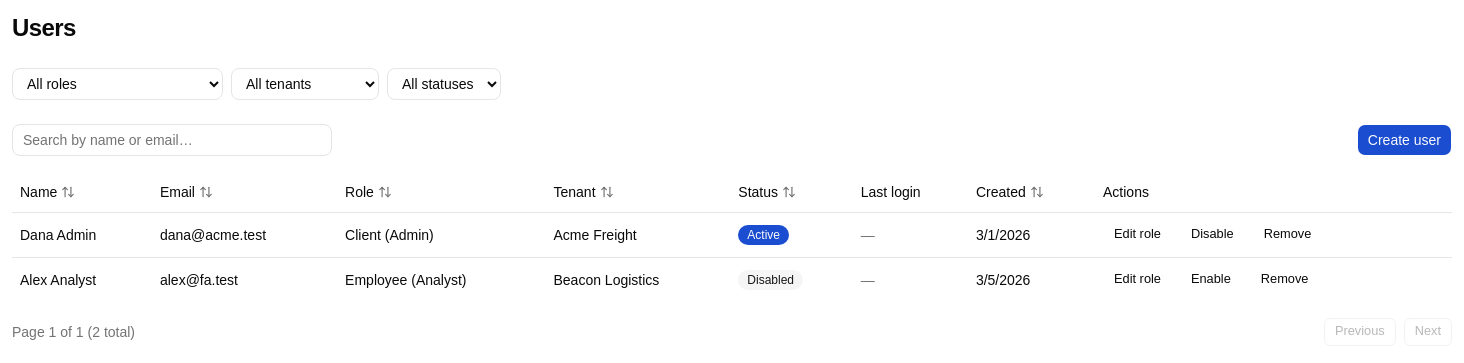
Scenario: UsersPage › AC: filters narrow results by role
Expected: the text "dana@acme.test" is shown, [152, 212, 337, 257]
Select "Employee (Analyst)" in the dropdown named "Filter by role" at (118, 84), box [12, 68, 223, 100]
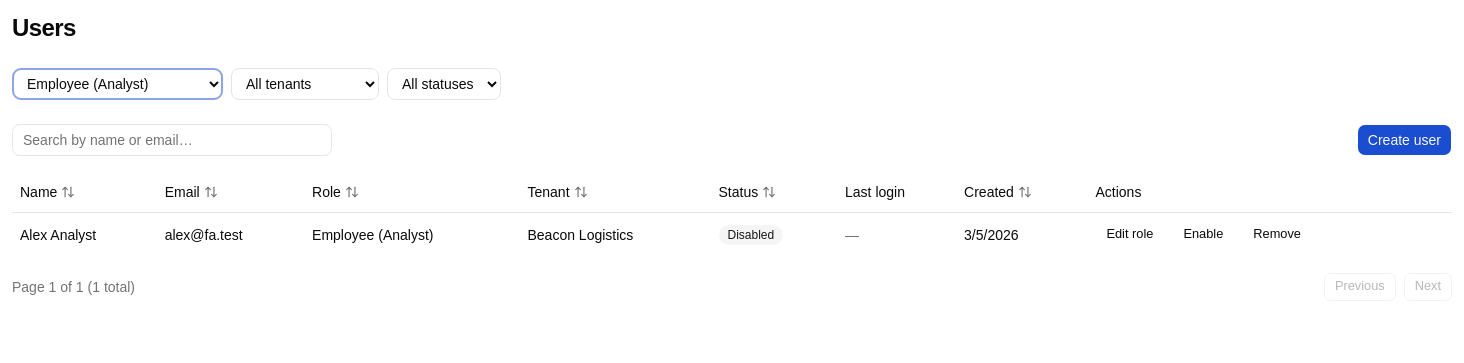
Expected: the text "alex@fa.test" is shown, [157, 212, 304, 256]
Expected: the text "dana@acme.test" is gone
